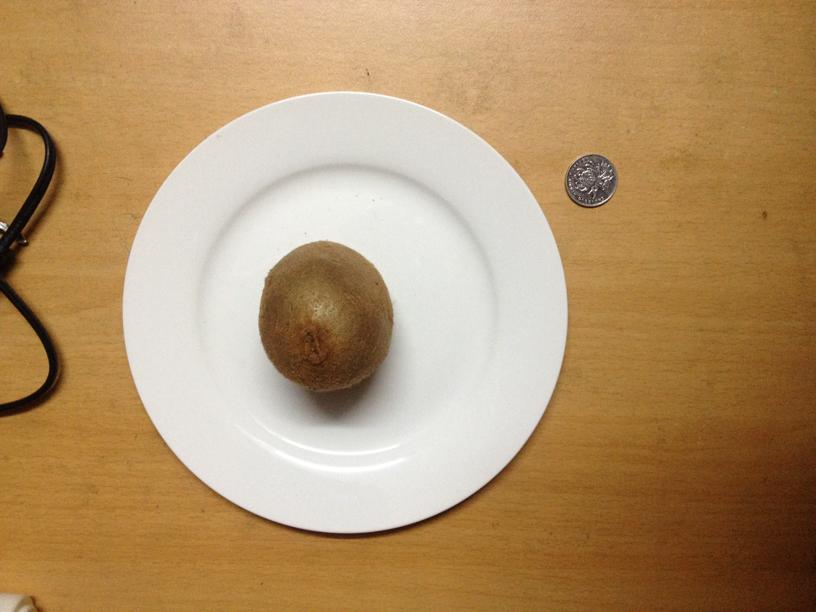coin: (563, 151, 620, 208)
qiwi: (254, 237, 392, 396)
